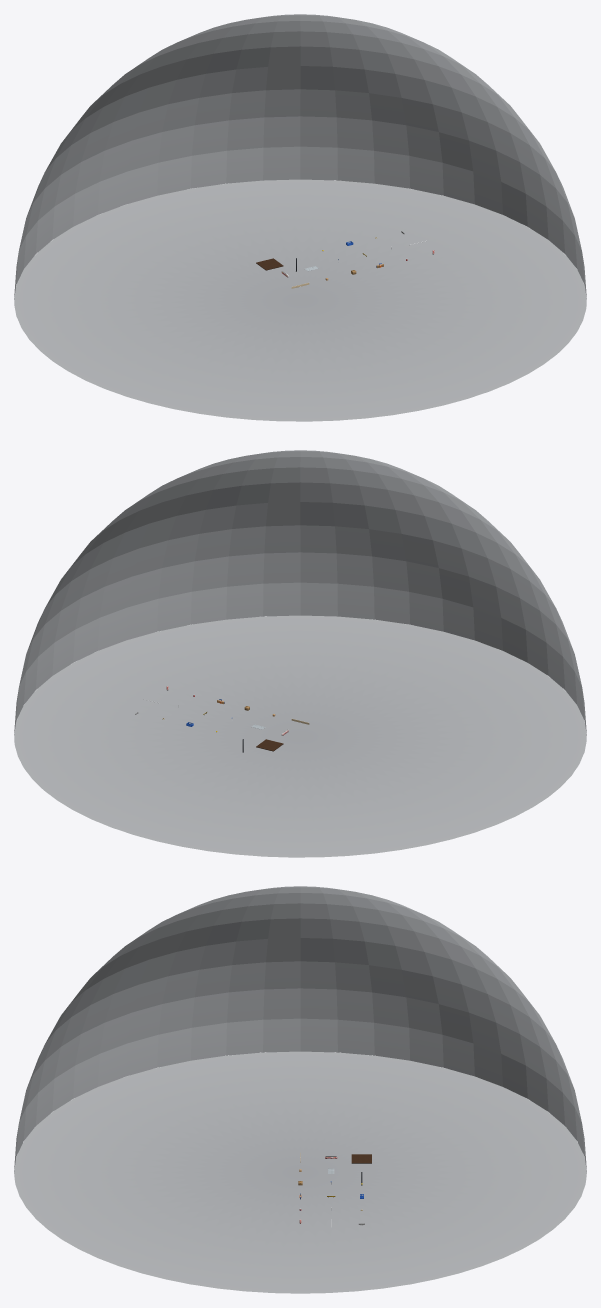
File: arena-props-low.glb
The picture shows the model from 3 angles, top to bottom: view 1: azimuth 30°, elevation 25°; view 2: azimuth 150°, elevation 25°; view 3: azimuth 270°, elevation 25°; orthographic projection.
Visible parts, largest first — view 1: studio_floor, studio_dome; view 2: studio_floor, studio_dome; view 3: studio_floor, studio_dome.
Part boxes in pixels (<box>): studio_floor: <box>14,179,586,421</box>; studio_dome: <box>14,14,586,299</box>; studio_floor: <box>14,615,586,857</box>; studio_dome: <box>14,450,586,735</box>; studio_floor: <box>14,1051,586,1293</box>; studio_dome: <box>14,886,586,1171</box>.
Bounding box in the file's own units: 28 × 14 × 28.
Materials: 38 (16 with a texture image).
